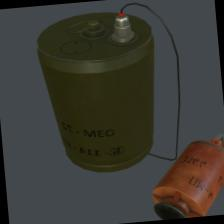OZM-72: (32, 4, 164, 184)
